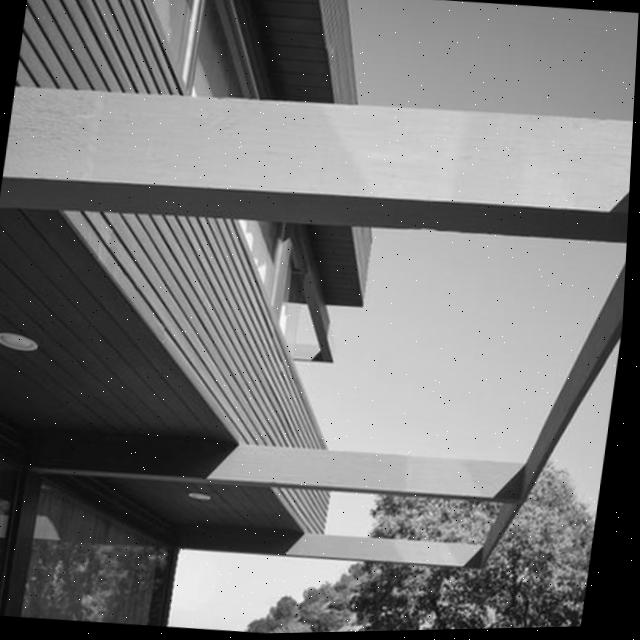building: (0, 0, 407, 559)
